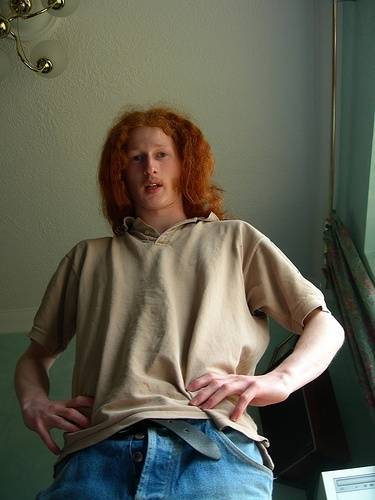head: (118, 109, 188, 212)
person: (15, 106, 348, 500)
